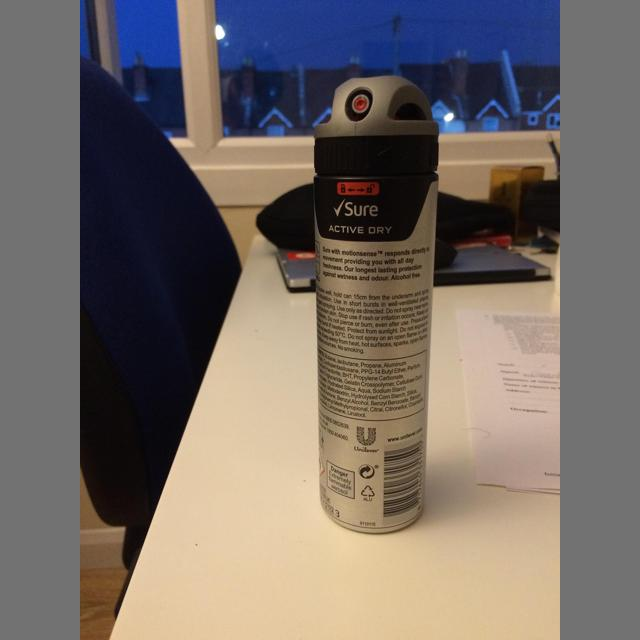litter: (314, 76, 440, 534), (456, 309, 560, 497)
